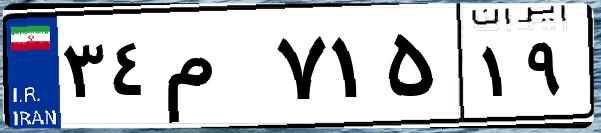1: (330, 28, 385, 110), (475, 38, 525, 113)
3: (57, 26, 110, 100)
4: (110, 28, 158, 98)
5: (385, 28, 445, 110)
7: (270, 28, 330, 110)
9: (525, 38, 570, 115)
م: (158, 20, 270, 120)
